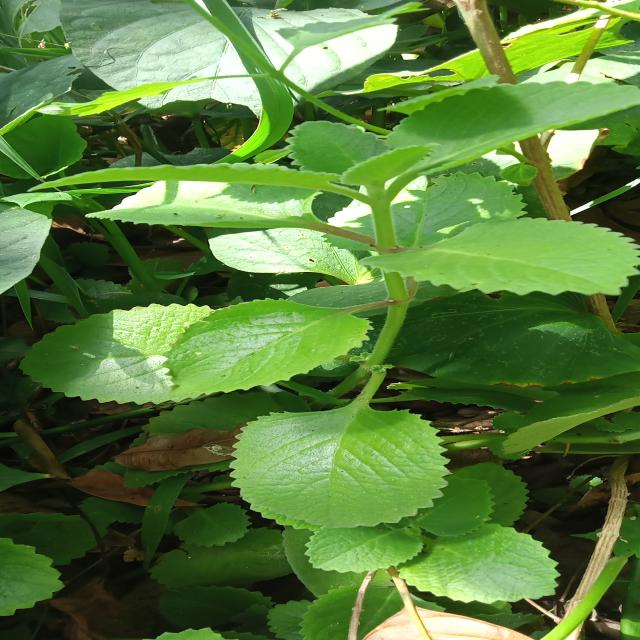Oregano: (25, 78, 640, 194), (230, 400, 462, 537), (363, 206, 640, 303)
